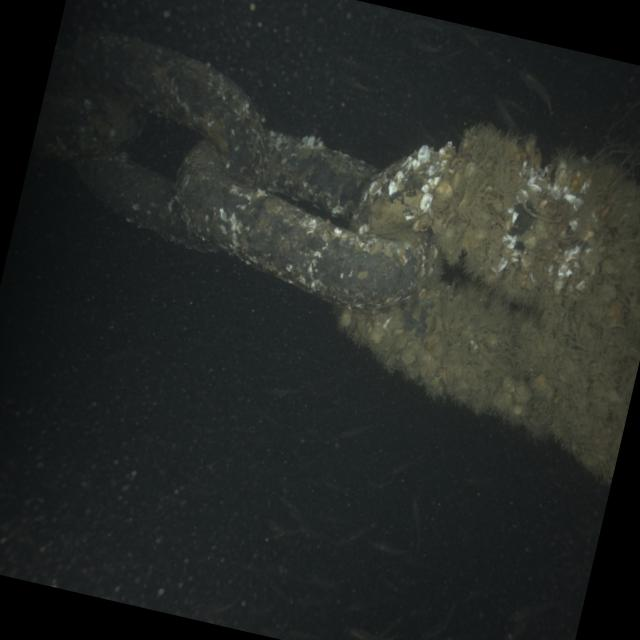ChainLink: (340, 125, 640, 481), (175, 130, 436, 308), (74, 33, 266, 184), (77, 152, 214, 250), (32, 94, 141, 158)
